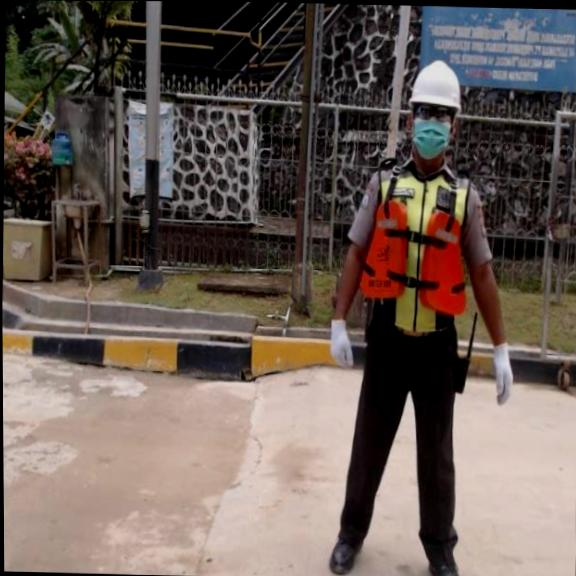safety_vest: (356, 198, 467, 315)
